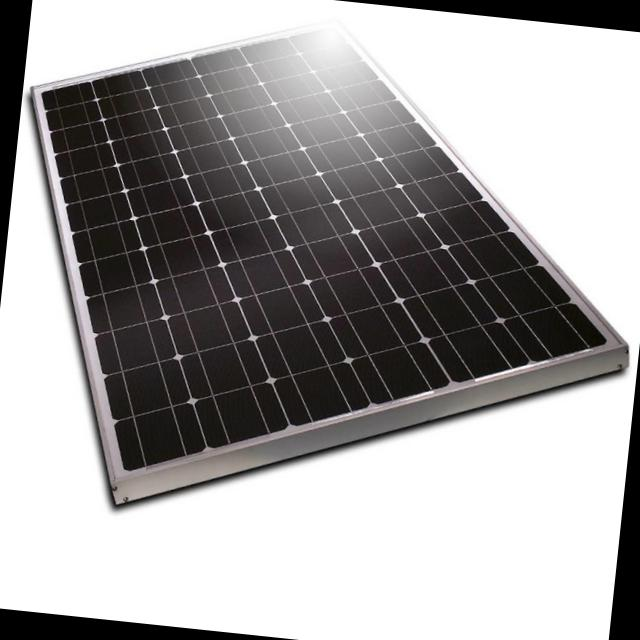no faulty: (48, 35, 606, 451)
